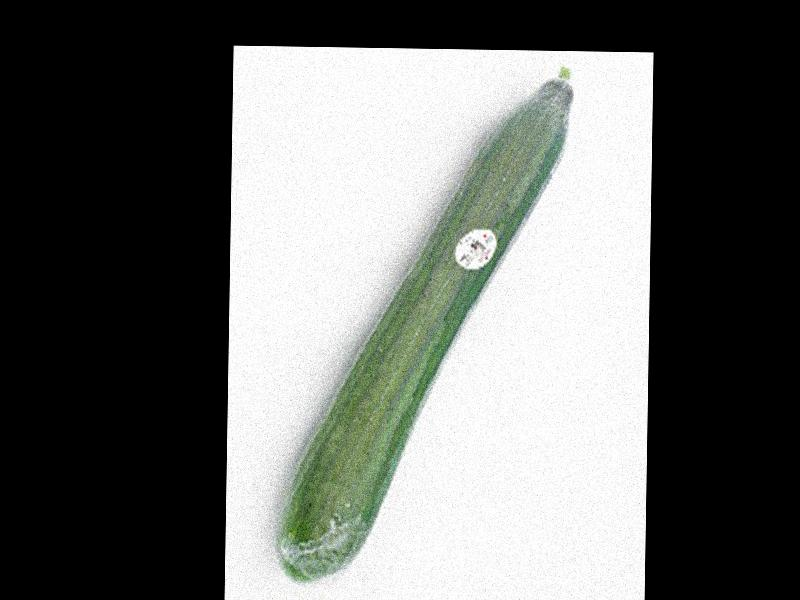Cucumber: (280, 63, 575, 583)
